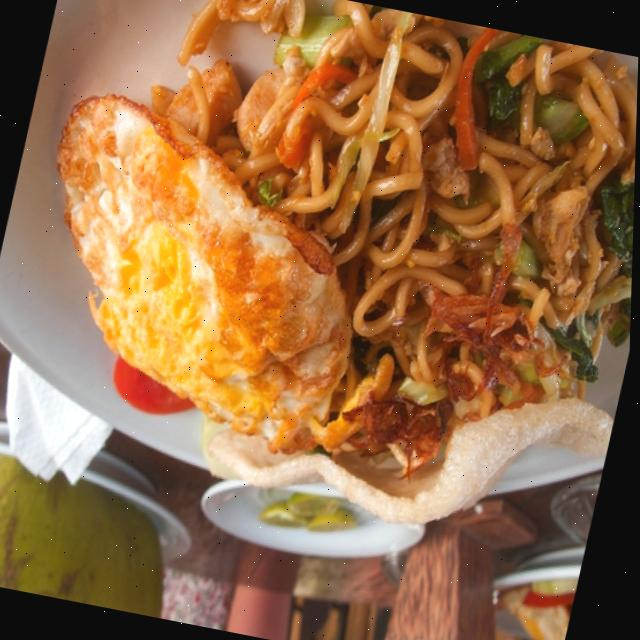面条主食: (11, 0, 640, 590)
